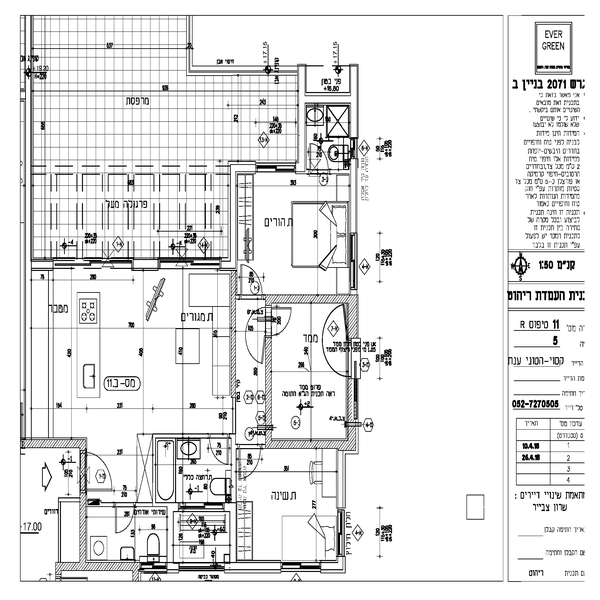door: (233, 443, 267, 481), (236, 259, 267, 300), (203, 429, 234, 469), (259, 307, 297, 334), (107, 505, 133, 541), (85, 456, 116, 486)
room: (22, 252, 240, 439), (229, 160, 367, 301), (256, 285, 361, 452)
wall: (75, 437, 95, 564), (262, 329, 281, 453), (262, 285, 361, 305), (264, 436, 356, 455), (50, 556, 145, 574), (20, 434, 90, 456), (342, 296, 360, 344)
window: (50, 253, 132, 274), (159, 250, 220, 270), (281, 556, 326, 577), (179, 494, 224, 514), (331, 504, 349, 552), (343, 233, 358, 288), (256, 155, 294, 174), (137, 551, 167, 574), (347, 374, 362, 417)
